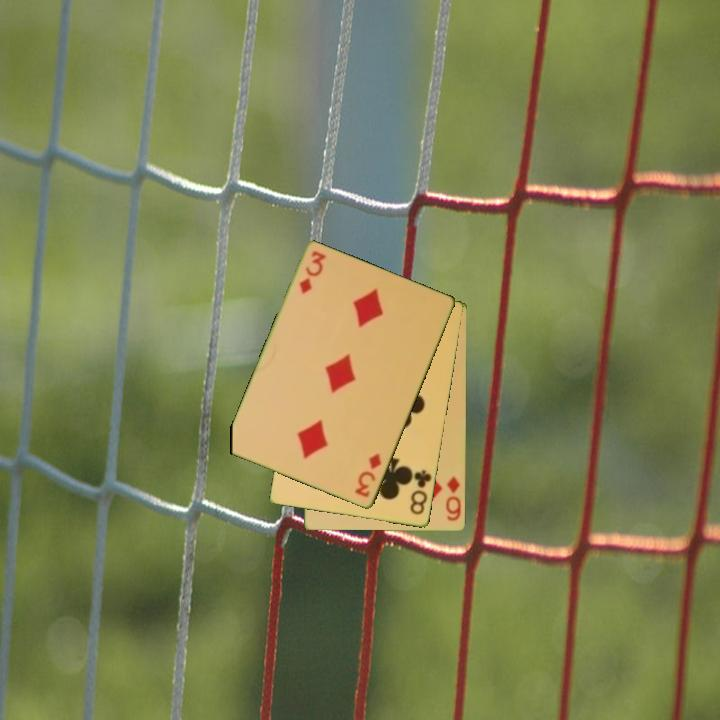3d: (351, 450, 385, 501), (296, 248, 328, 297)
6d: (443, 473, 464, 524)
8c: (407, 467, 435, 518)
